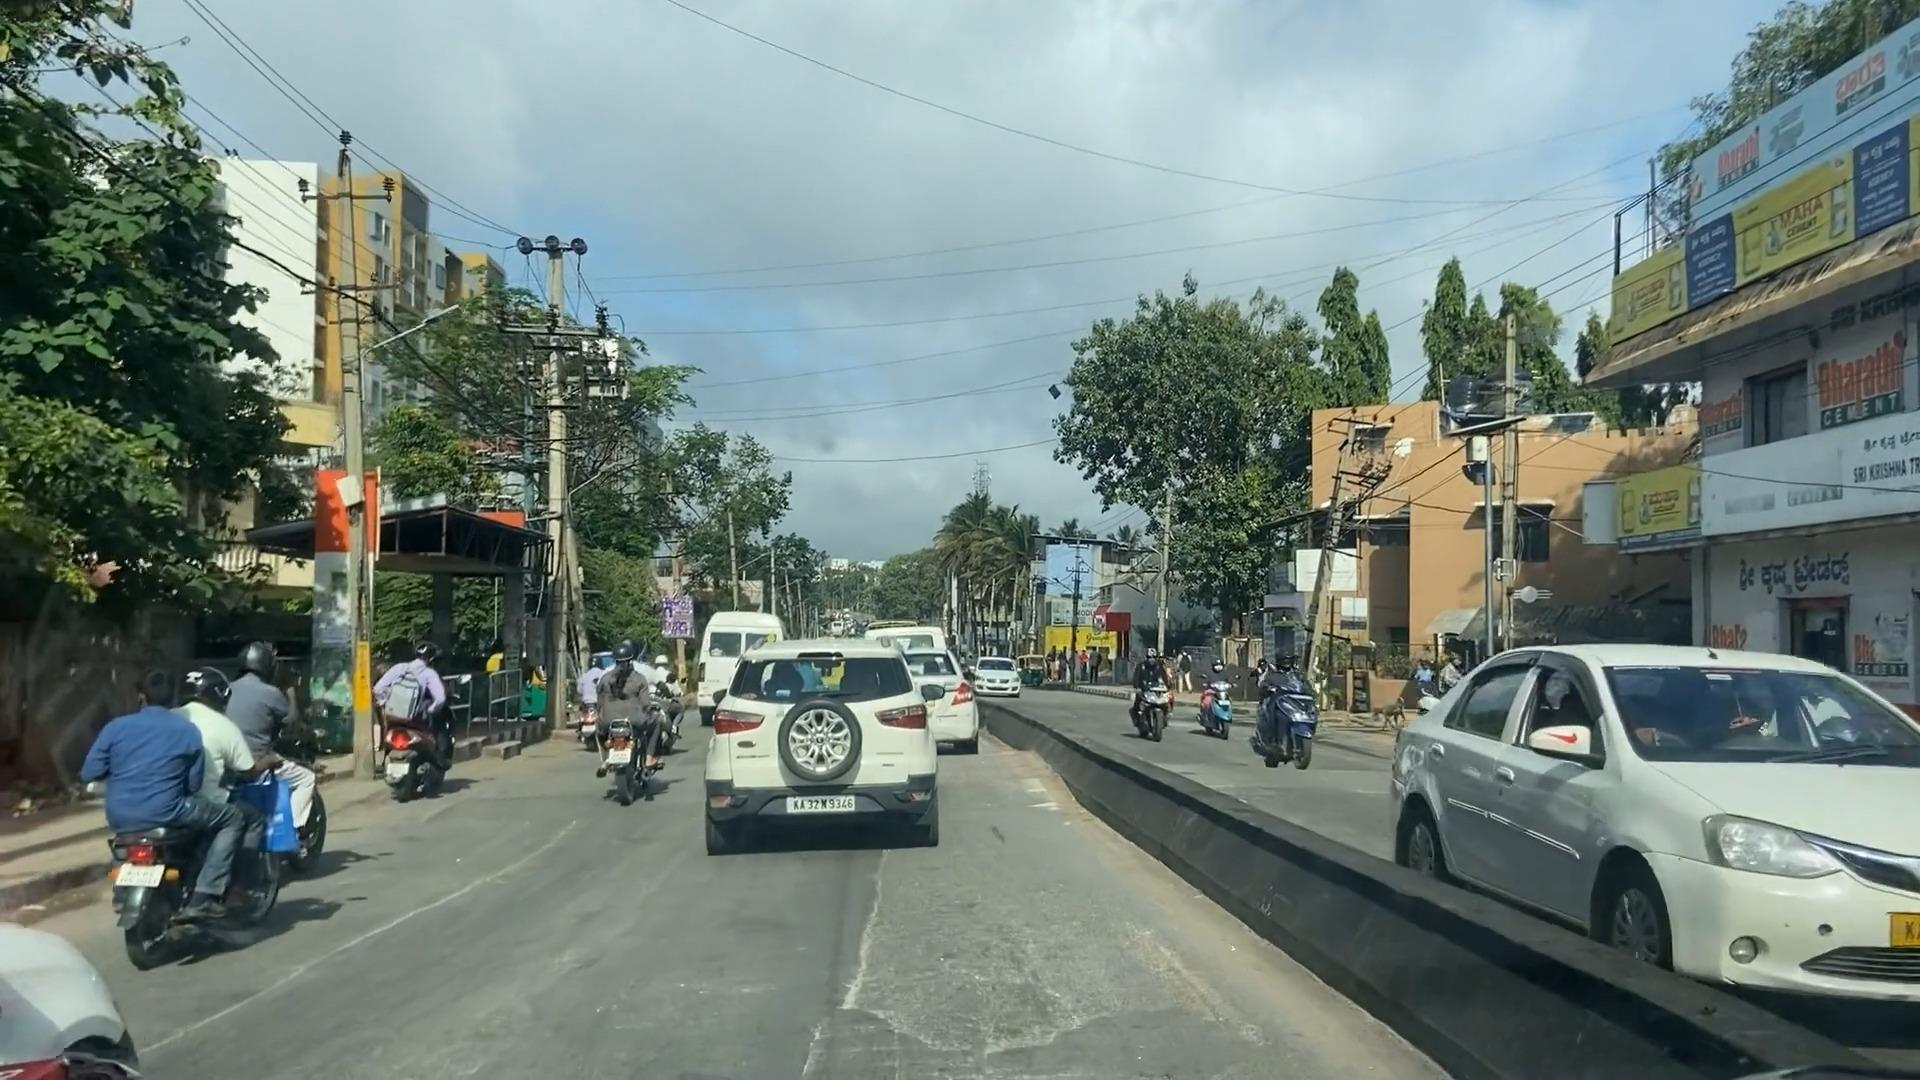LMV: (100, 680, 285, 945), (715, 642, 934, 845), (375, 646, 458, 794), (600, 645, 657, 796)
RoadDamages: (136, 820, 578, 1048), (804, 855, 1211, 1071)
